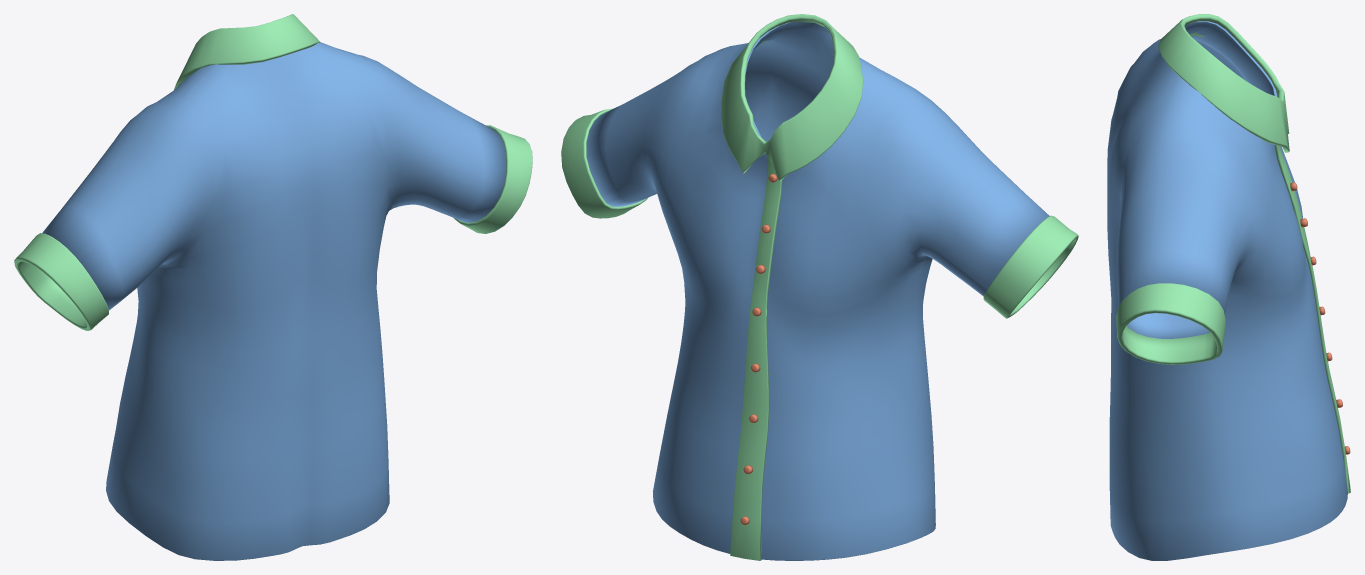
File: Erkaklar ko'ylagi.fbx
The picture shows the model from 3 angles, left to right: view 1: azimuth 30°, elevation 25°; view 2: azimuth 150°, elevation 25°; view 3: azimuth 270°, elevation 25°; orthographic projection.
Visible parts, largest first — view 1: cman0012_tp_Imported_OBJ_Object.001, cman0012_tp_Imported_OBJ_Object.002, cman0012_tp_Imported_OBJ_Object.004; view 2: cman0012_tp_Imported_OBJ_Object.001, cman0012_tp_Imported_OBJ_Object.004, cman0012_tp_Imported_OBJ_Object.003, cman0012_tp_Imported_OBJ_Object.002; view 3: cman0012_tp_Imported_OBJ_Object.001, cman0012_tp_Imported_OBJ_Object.004, cman0012_tp_Imported_OBJ_Object.002, cman0012_tp_Imported_OBJ_Object.003, Cylinder.002.
Part boxes in pixels (box(x1,y1,x2,y2)): cman0012_tp_Imported_OBJ_Object.001: box(42, 42, 506, 560); cman0012_tp_Imported_OBJ_Object.002: box(14, 125, 532, 330); cman0012_tp_Imported_OBJ_Object.004: box(174, 14, 319, 89); cman0012_tp_Imported_OBJ_Object.001: box(586, 21, 1049, 560); cman0012_tp_Imported_OBJ_Object.004: box(721, 14, 863, 181); cman0012_tp_Imported_OBJ_Object.003: box(730, 154, 782, 560); cman0012_tp_Imported_OBJ_Object.002: box(561, 108, 1078, 318); cman0012_tp_Imported_OBJ_Object.001: box(1107, 21, 1347, 560); cman0012_tp_Imported_OBJ_Object.004: box(1158, 14, 1289, 152); cman0012_tp_Imported_OBJ_Object.002: box(1116, 283, 1225, 364); cman0012_tp_Imported_OBJ_Object.003: box(1275, 145, 1350, 493); Cylinder.002: box(1278, 146, 1350, 454).
Size of the model in its own units: 82.49 by 79.2 by 35.6.
